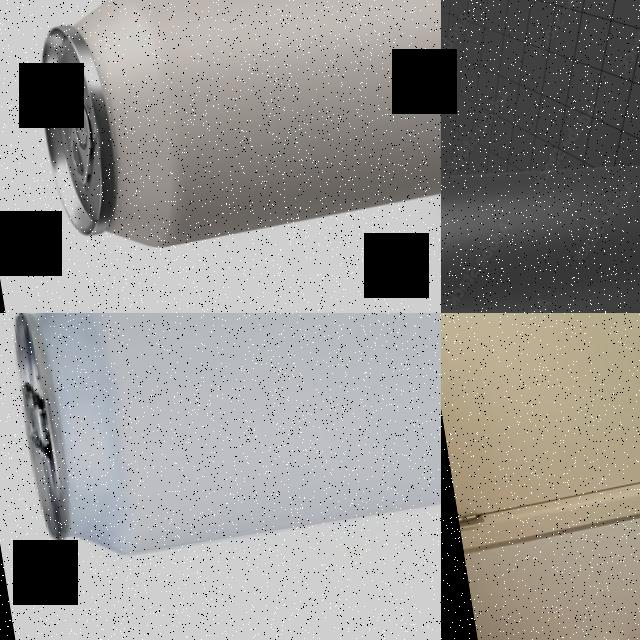can: (3, 313, 441, 569), (23, 0, 441, 262), (441, 123, 640, 313)
